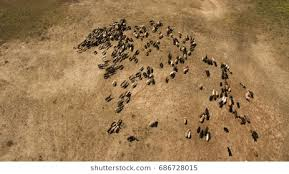sheep: (203, 68, 213, 79), (147, 119, 158, 128), (168, 69, 177, 79), (221, 125, 231, 134), (113, 106, 124, 114), (144, 77, 153, 86), (181, 67, 190, 76), (104, 93, 112, 102), (197, 82, 204, 92), (211, 56, 218, 66), (123, 96, 131, 104), (198, 114, 205, 123), (130, 81, 137, 89), (114, 125, 120, 134), (195, 126, 201, 135), (125, 134, 133, 140), (157, 62, 165, 68), (187, 131, 193, 139), (210, 88, 216, 96), (150, 25, 156, 32), (111, 80, 117, 86), (181, 119, 187, 124)
